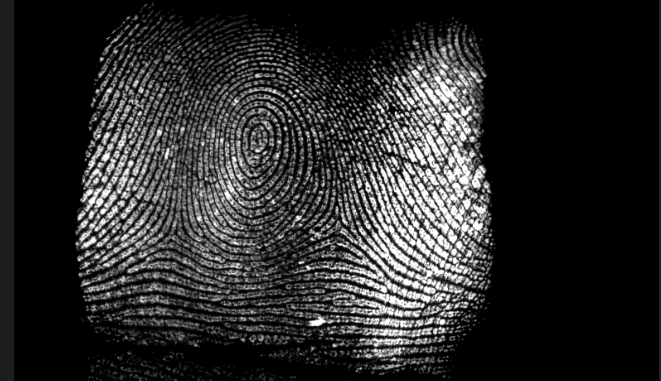deltas: (311, 201, 356, 250), (149, 212, 197, 257)
nucleo: (242, 120, 275, 167)
